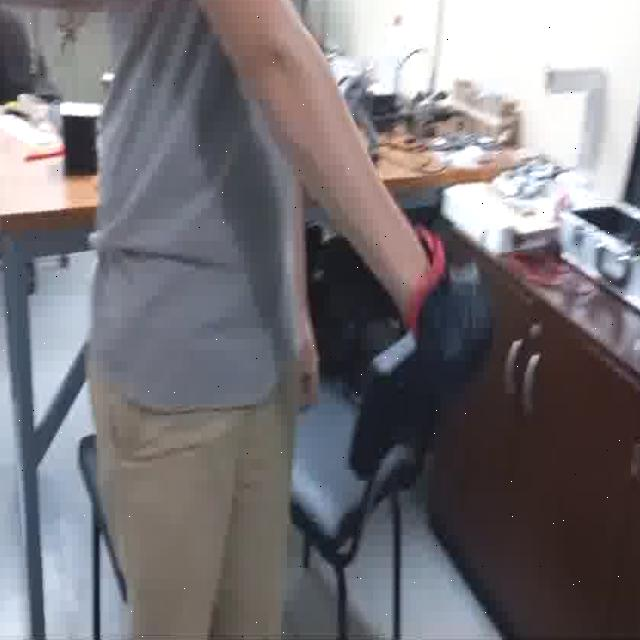Gloves: (396, 218, 486, 424)
